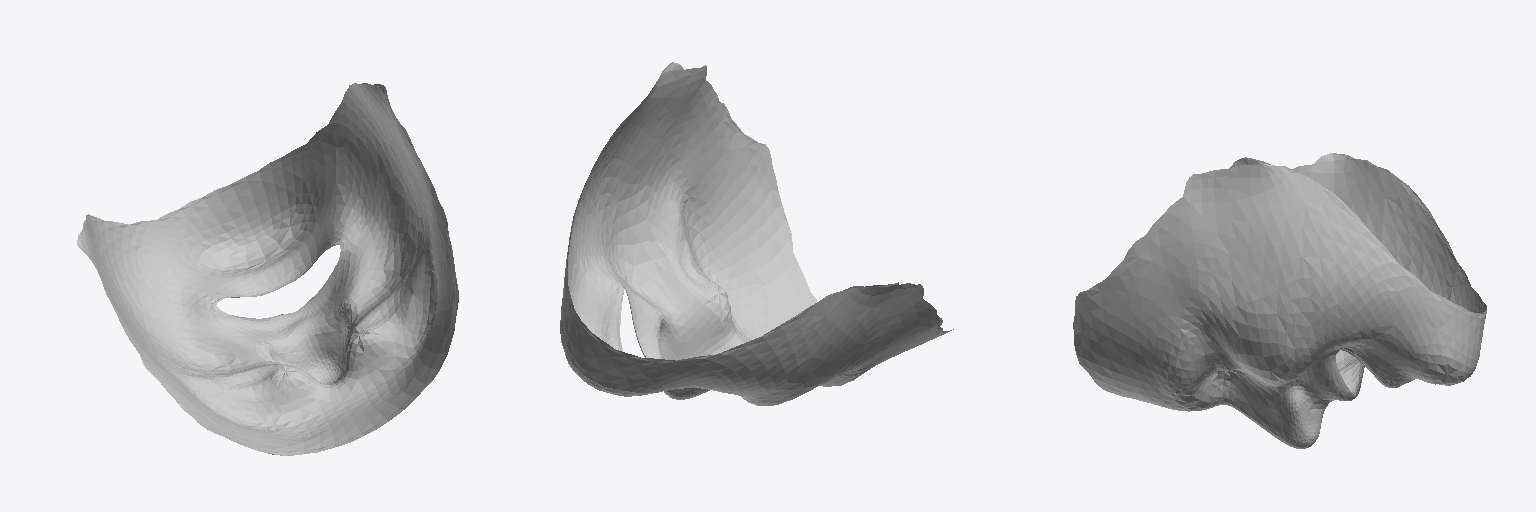
File: face_gab_sfm95.obj
The picture shows the model from 3 angles: view 1: azimuth 30°, elevation 25°; view 2: azimuth 150°, elevation 25°; view 3: azimuth 270°, elevation 25°; orthographic projection.
Size of the model in its own units: 169 by 162 by 198.